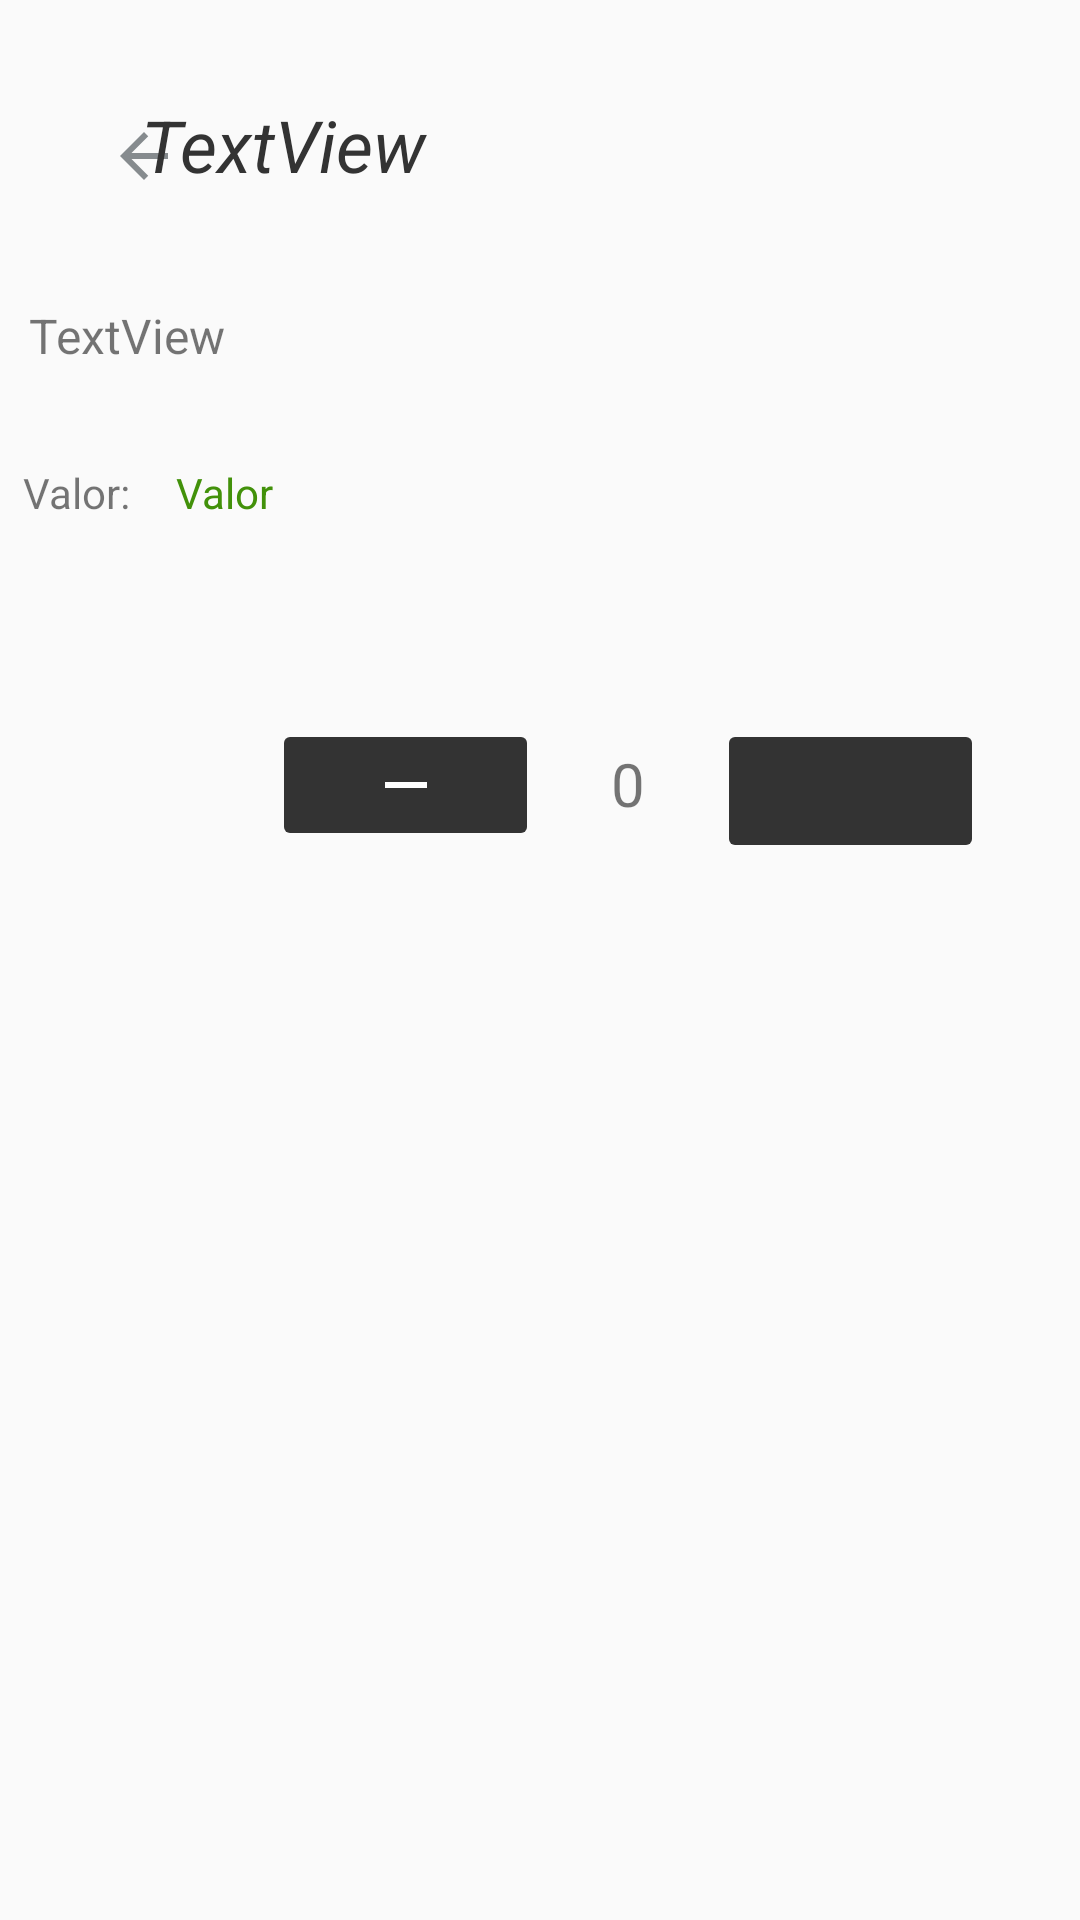

Where icons sit on this 1080px x 1920px app screen, as (x1, y1, x2, y2):
remove: (284, 737, 527, 833)
